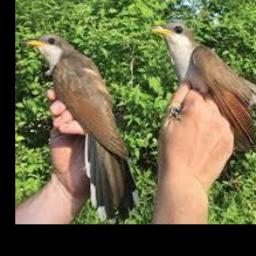Cuckoo: (27, 33, 137, 222), (152, 22, 256, 155)
